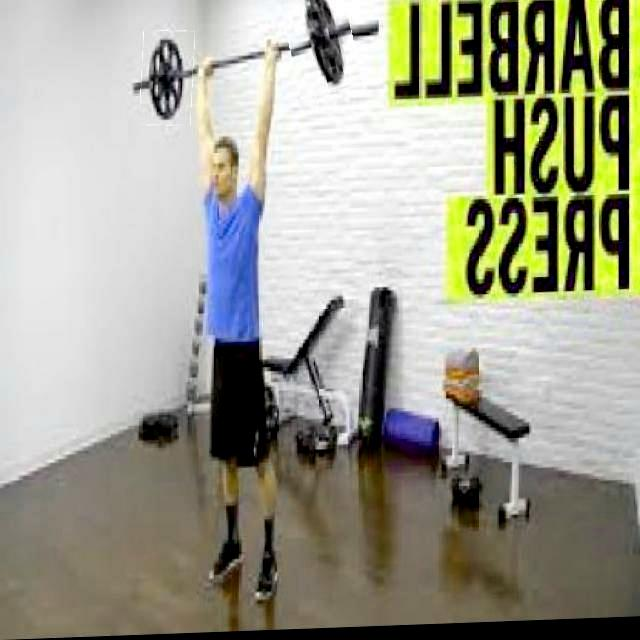barbell: (286, 1, 359, 100), (141, 32, 195, 128)
